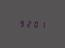nine: (18, 19, 24, 27)
one: (39, 20, 45, 28)
two: (25, 19, 31, 27)
zero: (32, 20, 38, 28)
